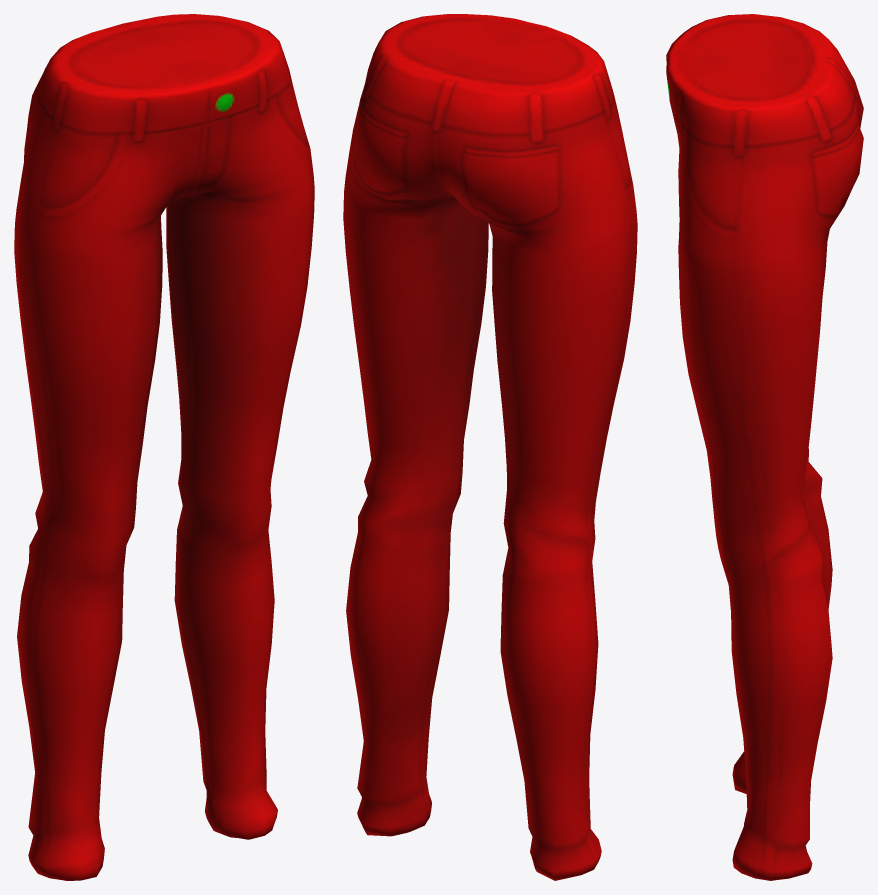
Rendered from Bottom_Jeans.obj.
3 renders of one model, left to right at view 1: azimuth 30°, elevation 25°; view 2: azimuth 150°, elevation 25°; view 3: azimuth 270°, elevation 25°, orthographic. The views are drawn at different scales.
Parts seen in each view (by area): view 1: Bottom_Jeans_0; view 2: Bottom_Jeans_0; view 3: Bottom_Jeans_0.
Boxes of the visible parts, x1=… form: Bottom_Jeans_0: x1=14, y1=14, x2=314, y2=880; Bottom_Jeans_0: x1=343, y1=14, x2=637, y2=880; Bottom_Jeans_0: x1=666, y1=14, x2=863, y2=880.
Size of the model in its own units: 0.3647 by 1 by 0.2336.
1 material, 1 textured.
